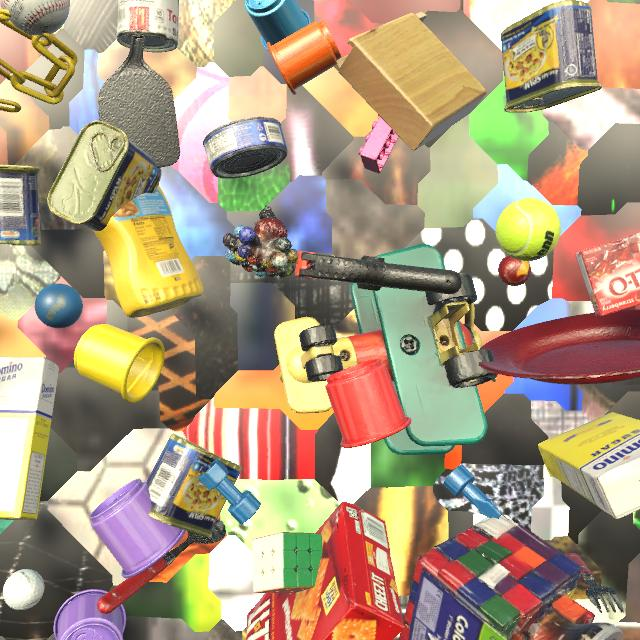ycb_003_cracker_box: (246, 501, 404, 640)
ycb_004_sugar_box: (538, 412, 640, 519), (0, 357, 59, 520)
ycb_005_tomato_soup_can: (117, 0, 179, 52)
ycb_006_mustard_bottle: (93, 185, 204, 318)
ycb_007_tuna_fish_can: (203, 117, 288, 179)
ycb_009_gelatin_box: (575, 233, 640, 316)
ycb_010_potted_meat_can: (47, 121, 161, 231), (501, 0, 602, 113), (146, 433, 242, 538), (0, 164, 41, 246)
